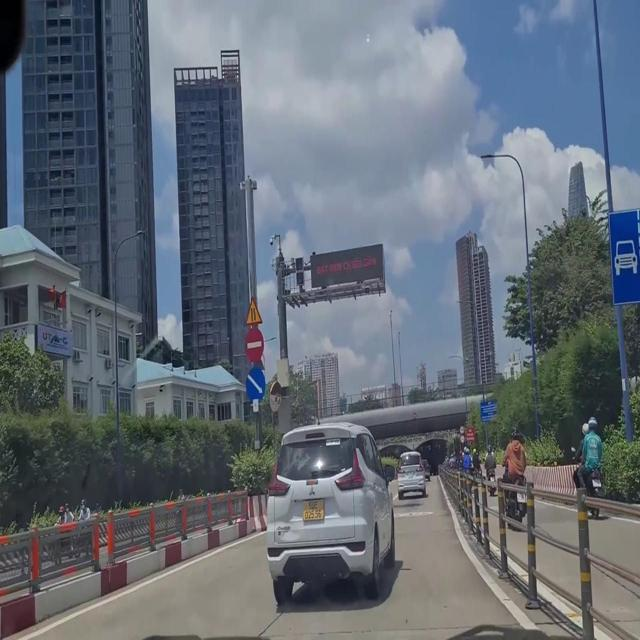Cấm đi ngược chiều: (242, 325, 270, 362)
Hướng phải đi vòng sang phải: (245, 366, 266, 403)
Khác: (477, 397, 498, 421)
Đường hẹp: (238, 294, 265, 327)
